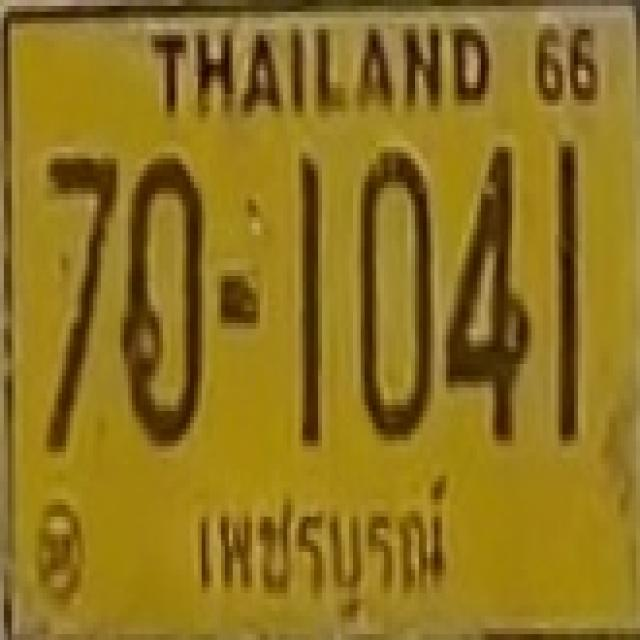0: (120, 153, 202, 440), (357, 147, 430, 434)
1: (555, 138, 578, 437), (297, 153, 320, 440)
4: (442, 141, 528, 434)
7: (46, 153, 116, 446), (46, 153, 116, 352)
PNB: (180, 466, 458, 636)
